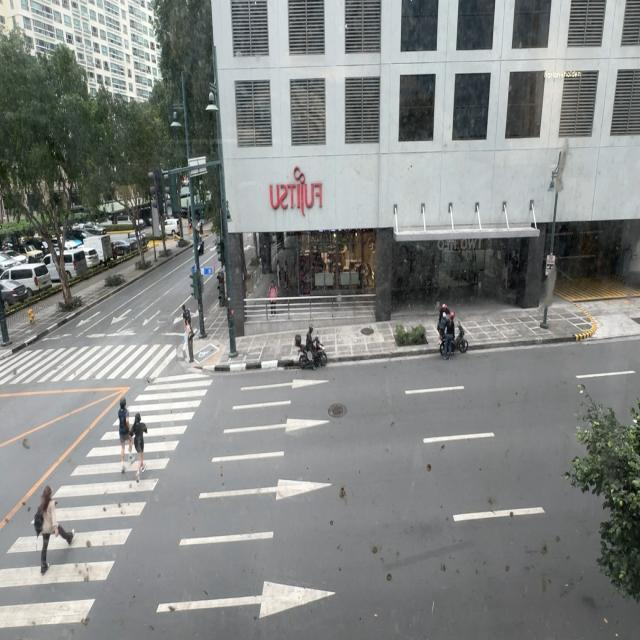waiting: (179, 302, 190, 340), (183, 324, 194, 358)
